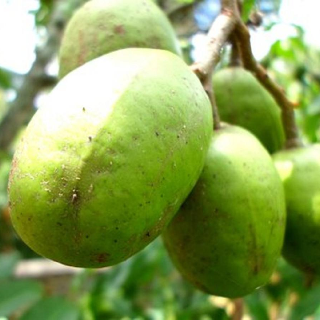coc: (8, 49, 212, 269)
